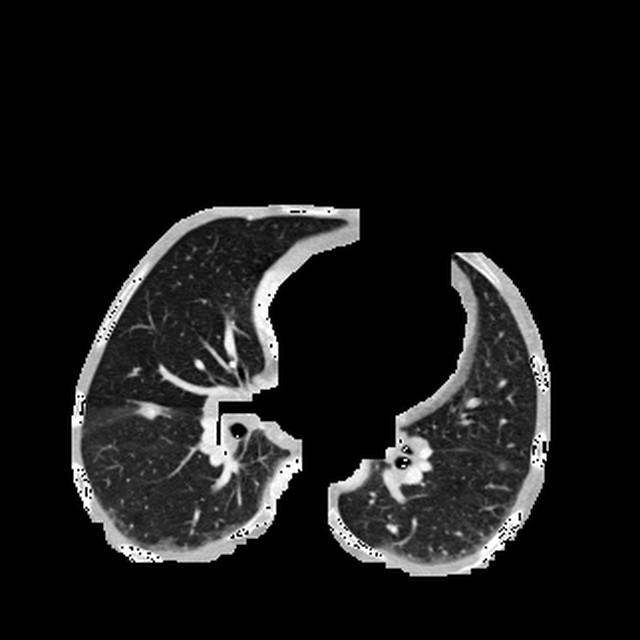PN: (139, 401, 159, 421)
